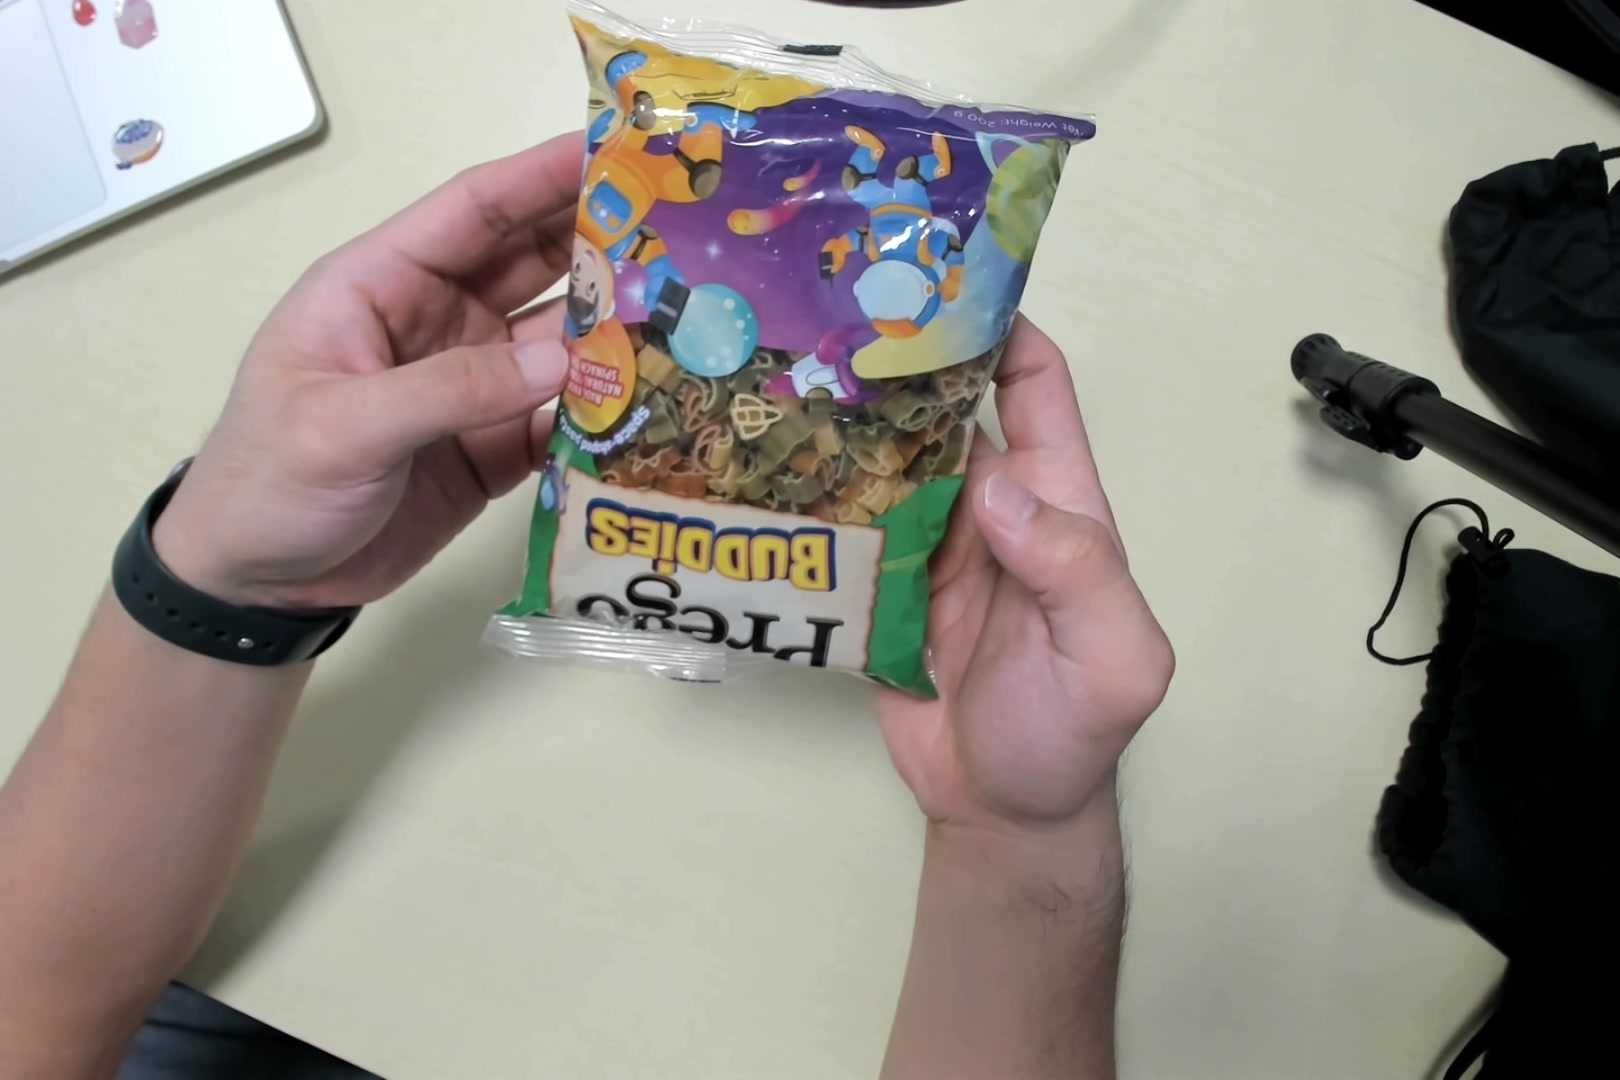Pasta_200-299g_Halal_NonHealthy: (541, 13, 1028, 695)
